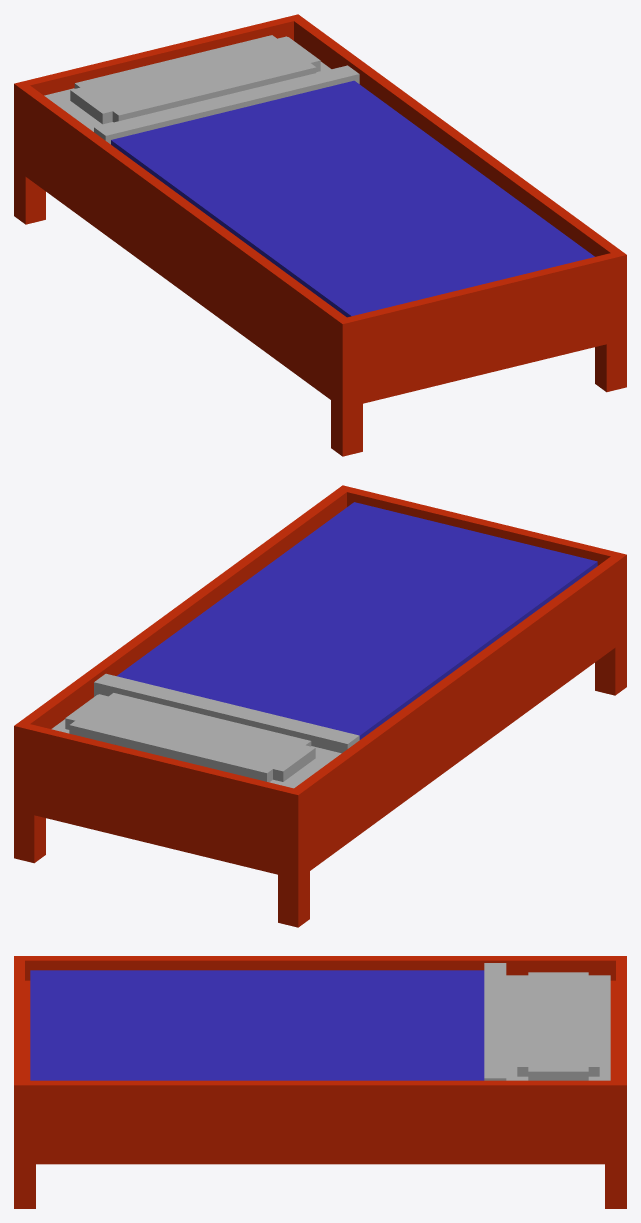
Rendered from Regular size bed.fbx.
The picture shows the model from 3 angles, top to bottom: view 1: azimuth 30°, elevation 25°; view 2: azimuth 150°, elevation 25°; view 3: azimuth 270°, elevation 25°; orthographic projection. The views are drawn at different scales.
Parts seen in each view (by area): view 1: Regular size bed; view 2: Regular size bed; view 3: Regular size bed.
Boxes of the visible parts, x1,y1,x2,y2 form: Regular size bed: [14, 14, 626, 456]; Regular size bed: [14, 485, 626, 927]; Regular size bed: [14, 956, 626, 1208].
Size of the model in its own units: 1 by 0.4456 by 2.
